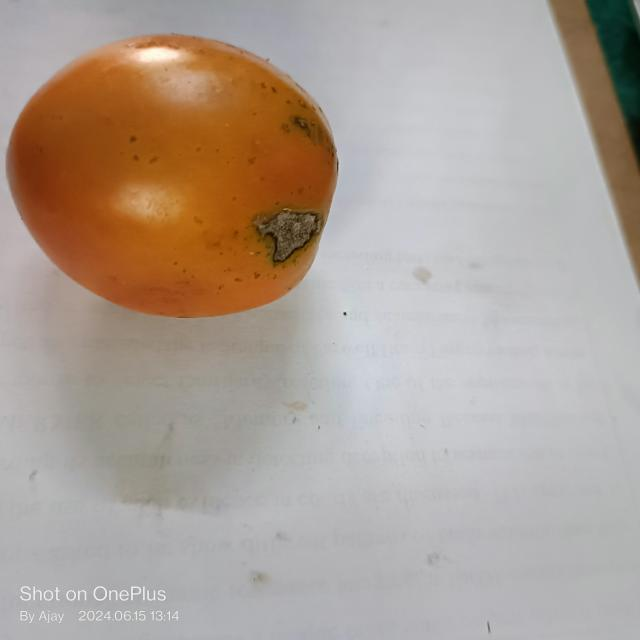Bacterial_Spot: (252, 209, 330, 262), (280, 102, 323, 144)
